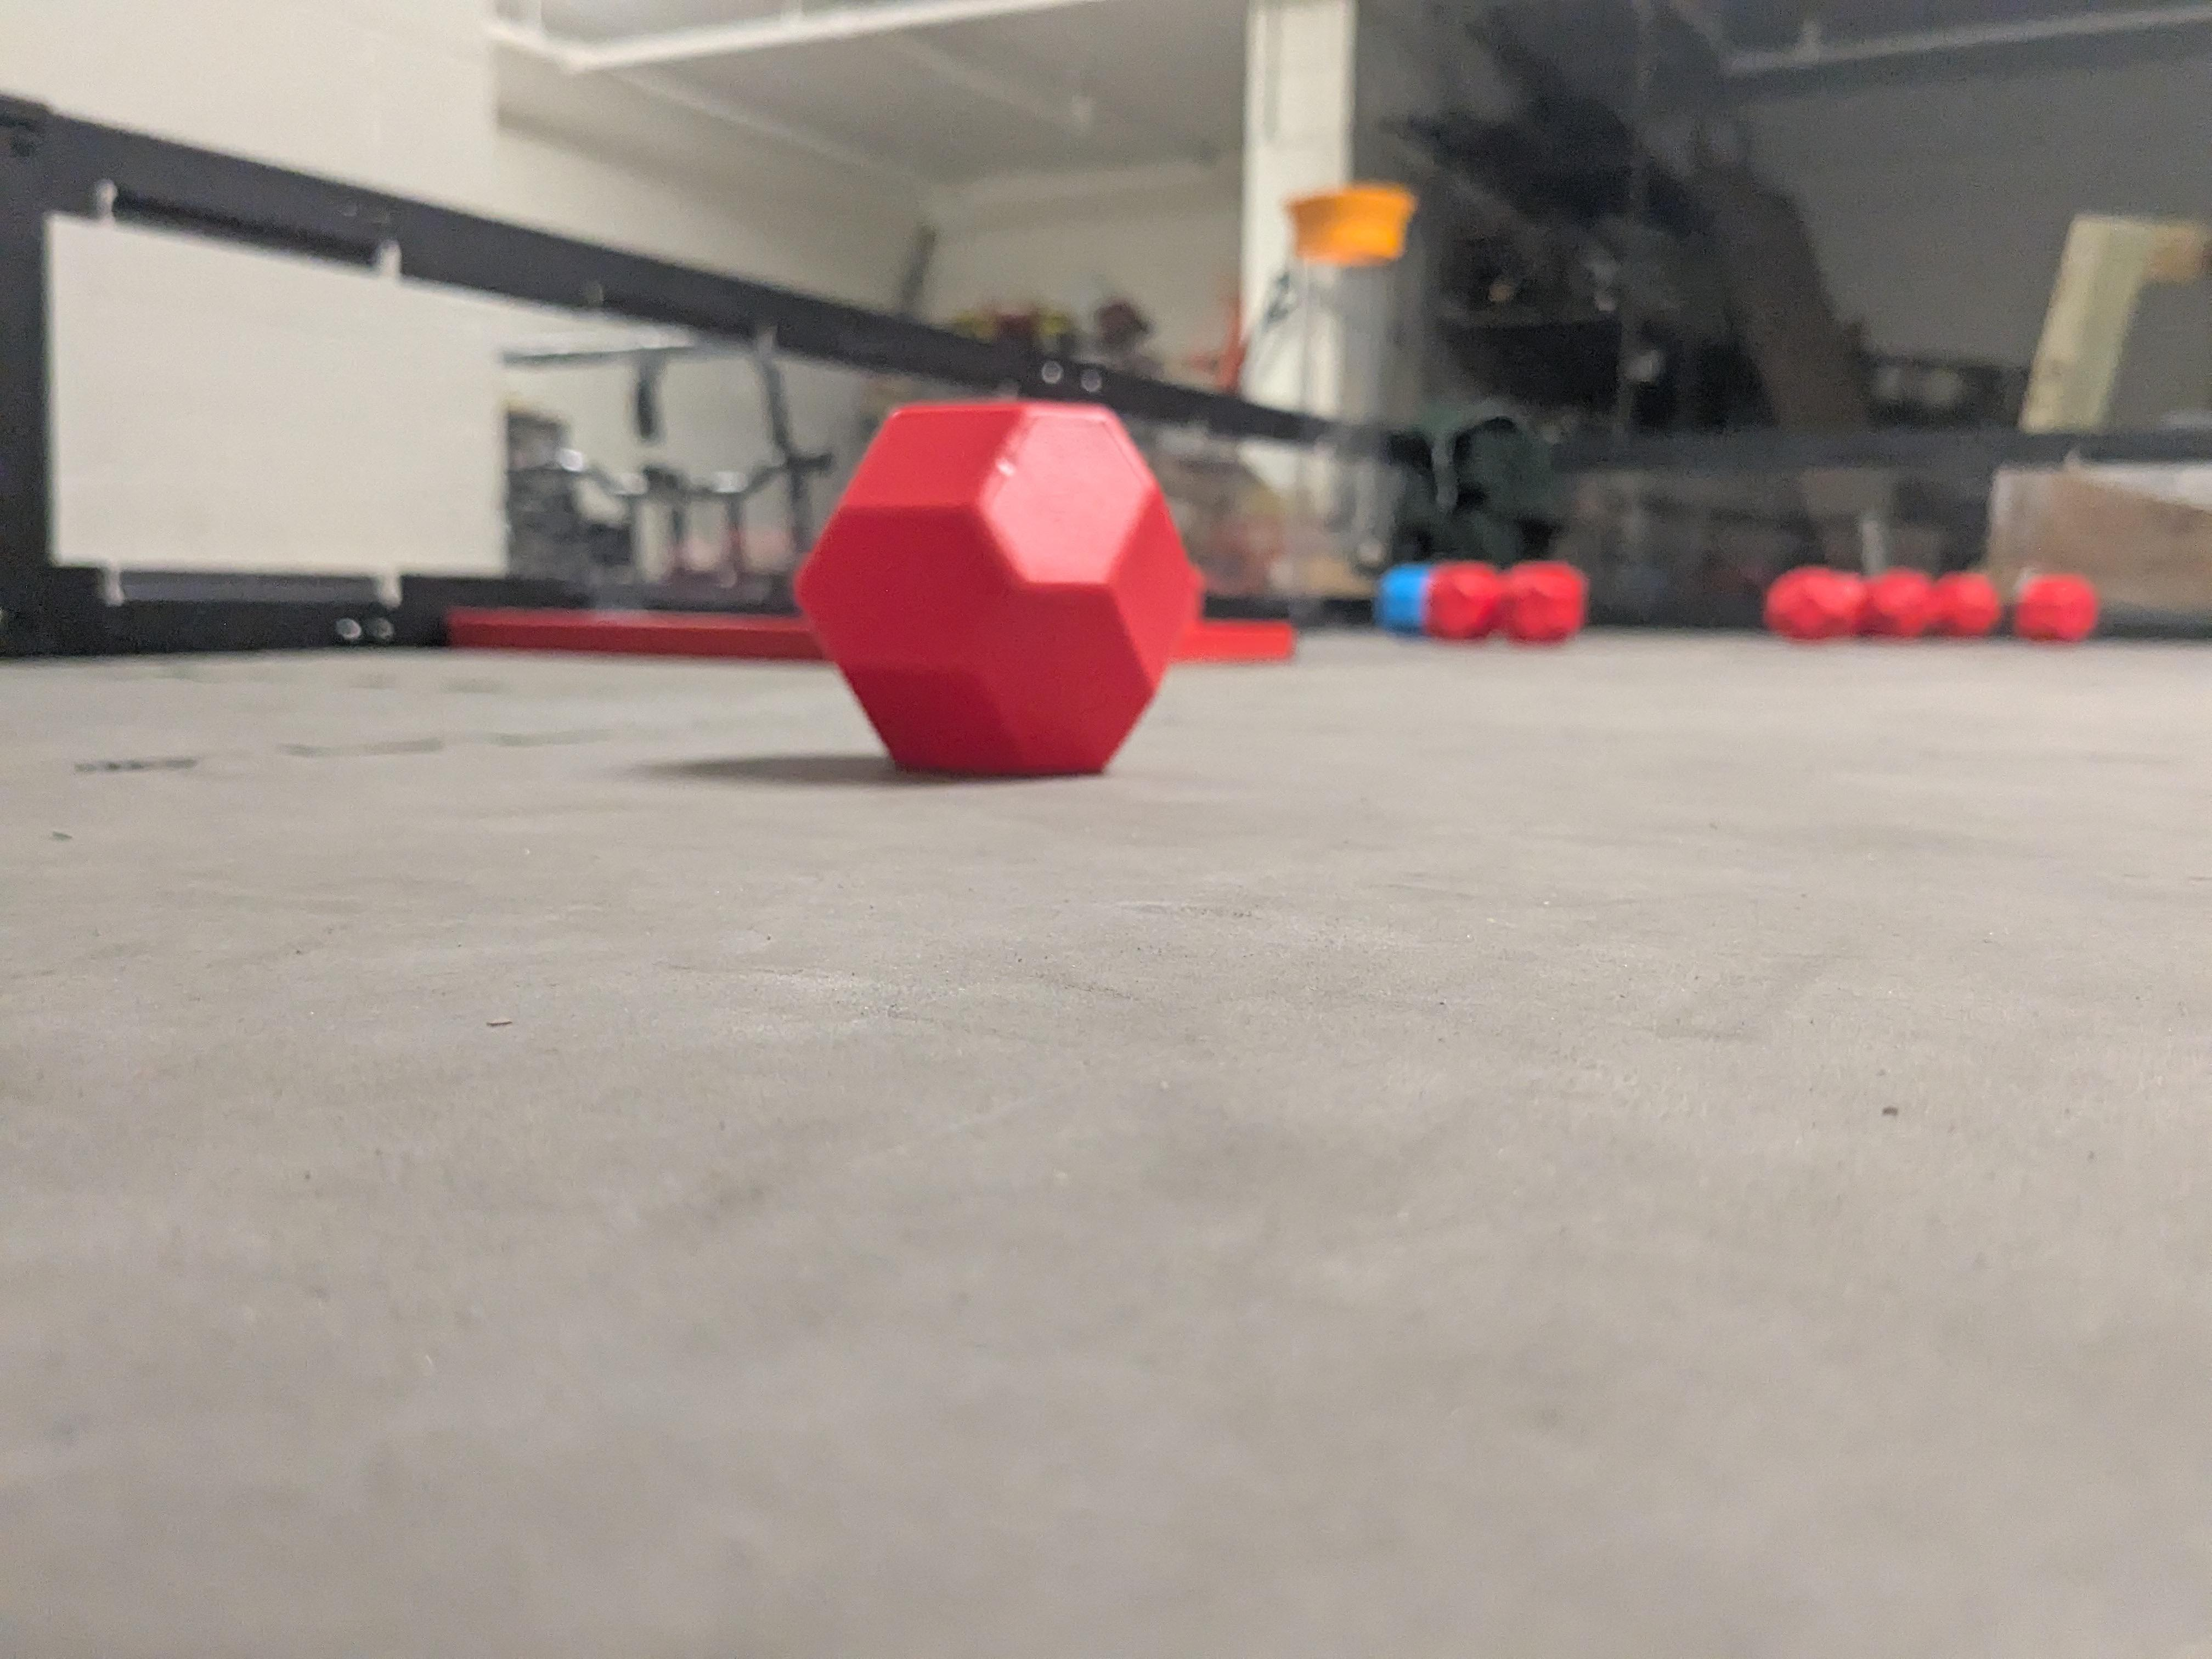Vex-Pieces-BLUE: (1374, 563, 1432, 634)
Vex-Pieces-RED: (798, 404, 1198, 774), (1764, 566, 1867, 640), (1498, 561, 1587, 643), (1425, 561, 1505, 640), (2012, 573, 2099, 641), (1858, 568, 1939, 638), (1933, 572, 2003, 638)
